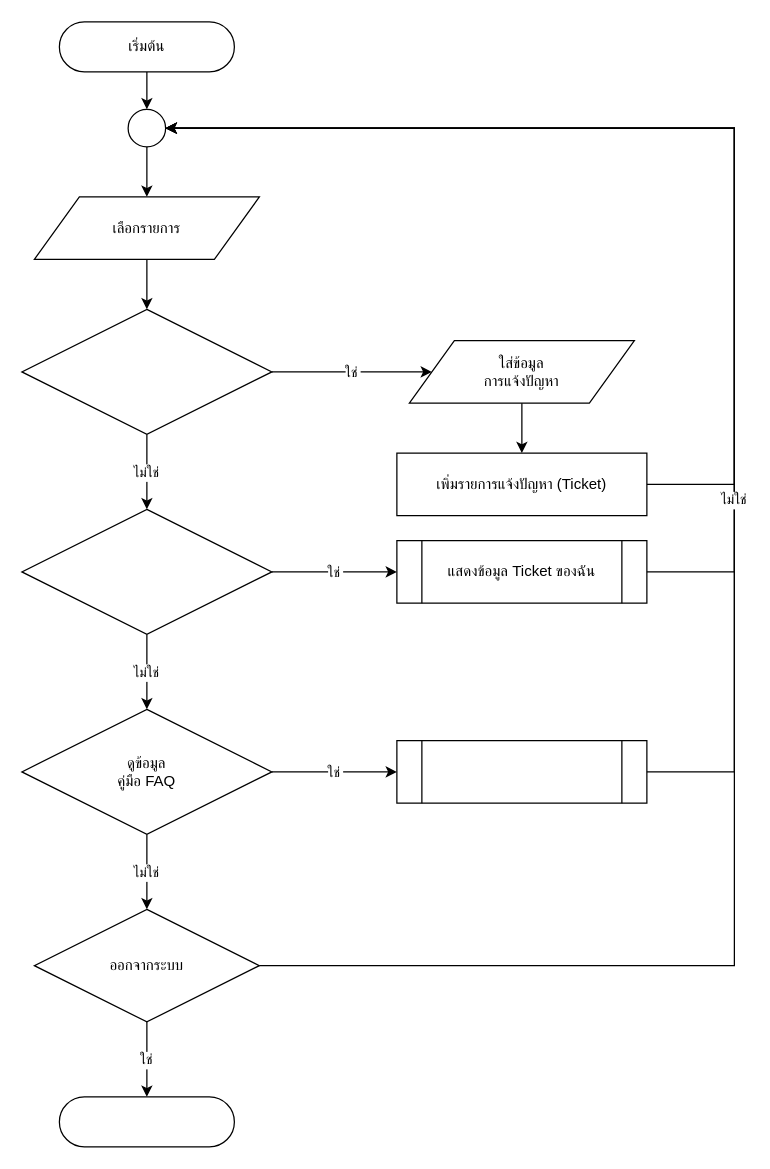
The diagram is 770 pixels wide and 1169 high, and some of its shapes have lost their labels. Each missing label, with the centre of its shape:
"จบการทำงาน" goes at [146,1121].
"ดูประวัติ การแจ้งปัญหา" goes at [146,571].
"แจ้งปัญหา การใช้งาน" goes at [146,371].
"แสดงบทความการแก้ปัญหา" goes at [521,771].
